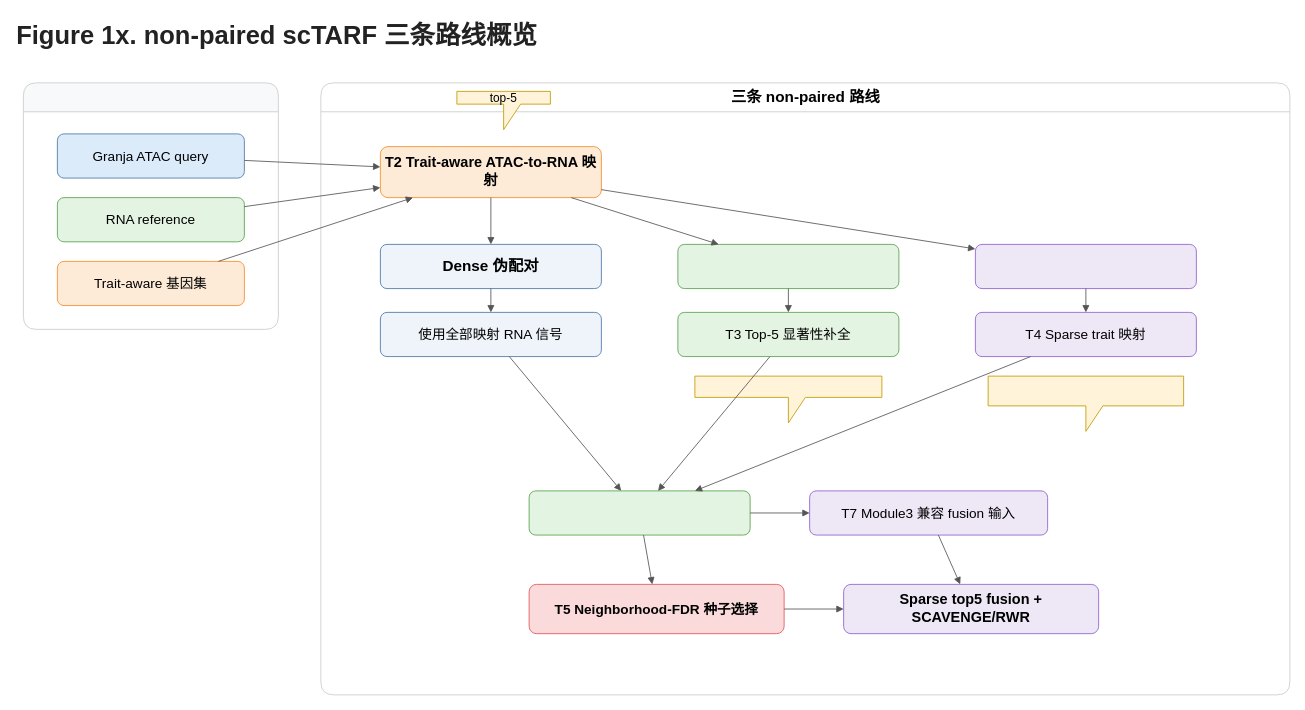
Image size: 1305x710. Some labels were removed from this diagram. Here are the shapes that lost their labels. From the top down, the box of each, then its label:
(23, 82, 278, 329): 共同输入
(677, 244, 899, 289): Top5-significant 路线
(975, 244, 1196, 289): Sparse top5 路线
(694, 375, 882, 423): empirical p <= 0.01; B = 1000
(987, 375, 1184, 431): 逐基因背景过滤；z-score 稀疏特征
(528, 490, 750, 535): T6 双向 RNA-to-ATAC 转移
